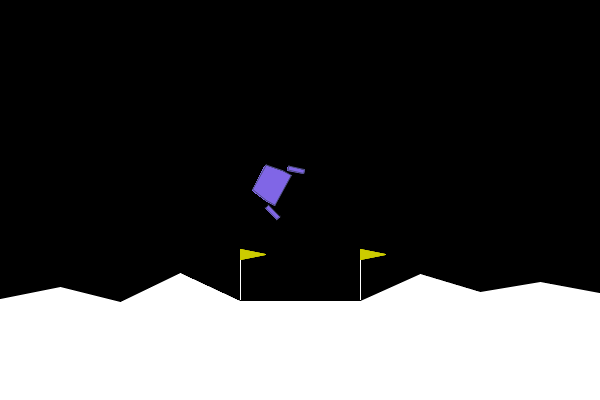lander: (243, 150, 307, 222)
